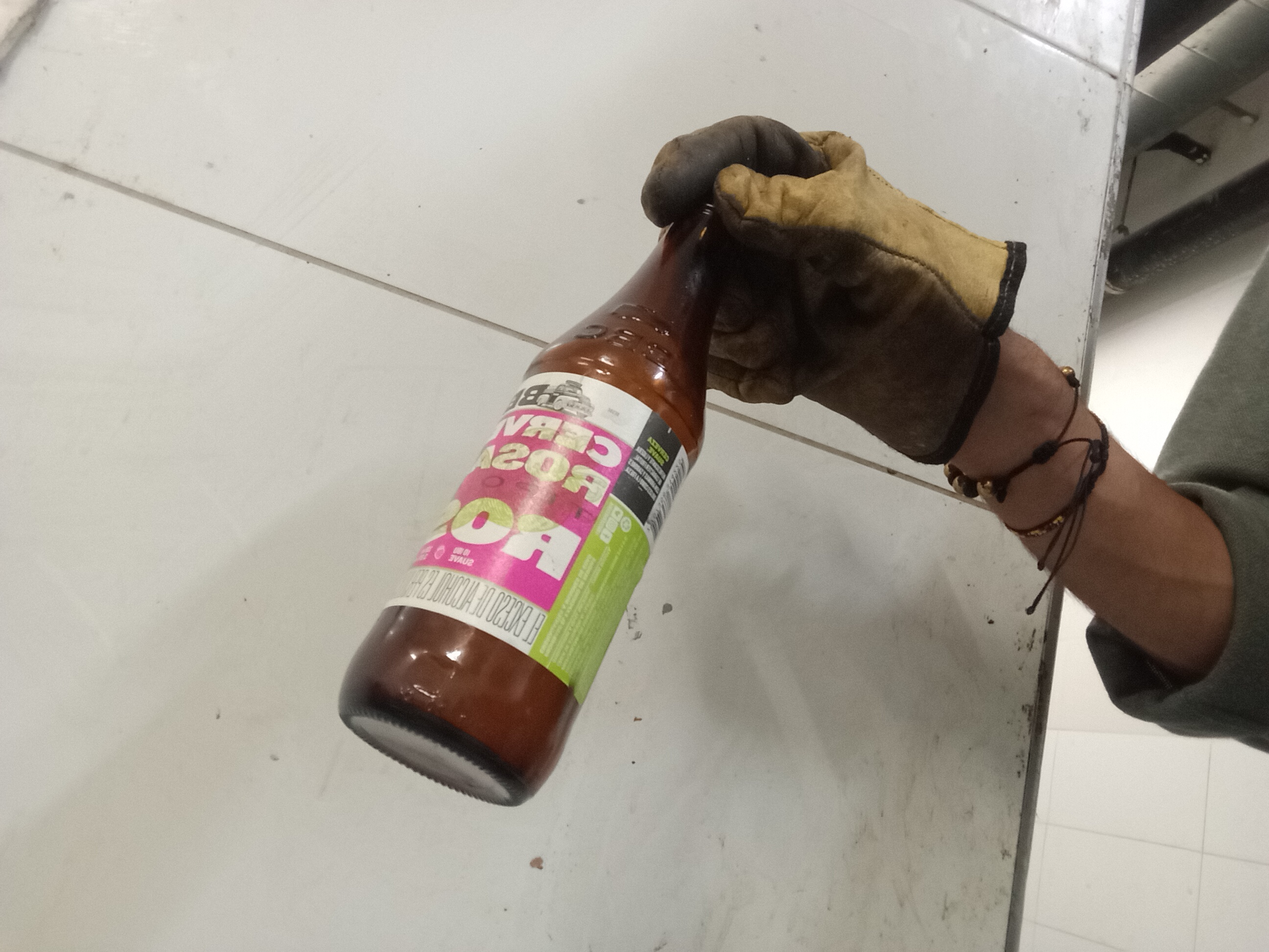Vidrio: (337, 190, 729, 807)
